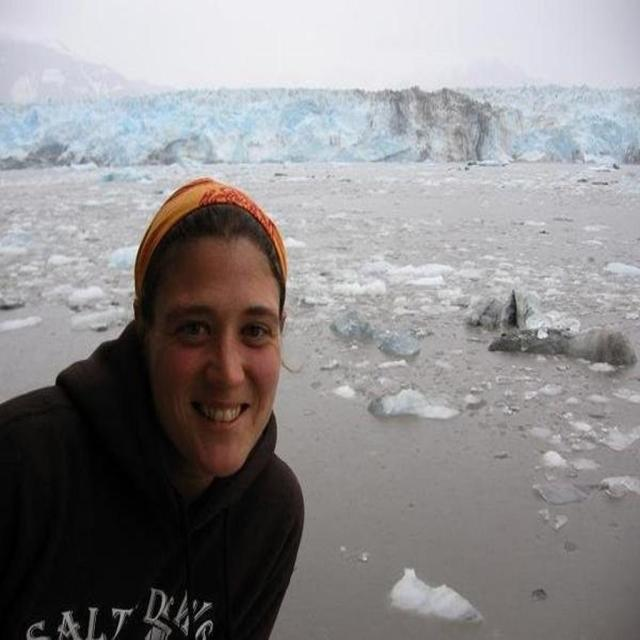Face: (156, 235, 276, 478)
